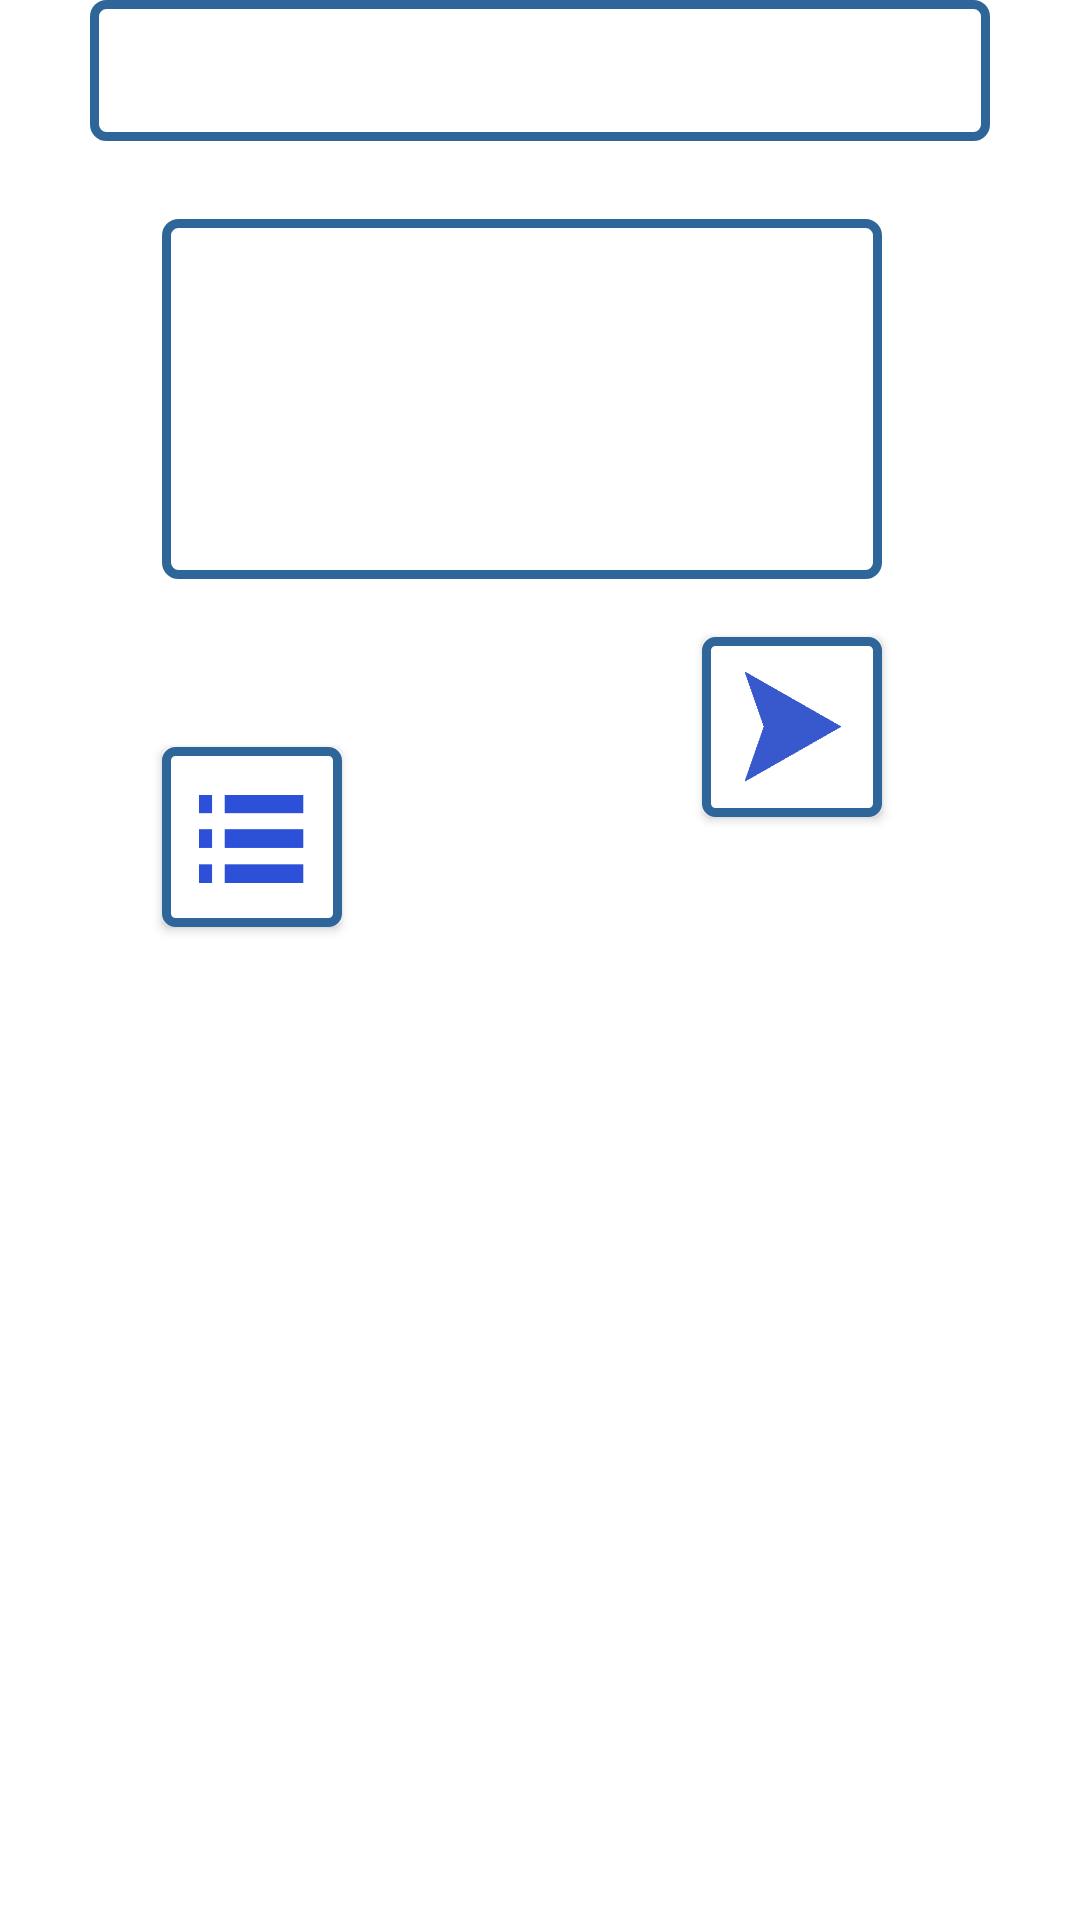

Point at icon controls on the screen. Image size 1080px×1920px, points as (x,y).
bluemenu: (252,837)
